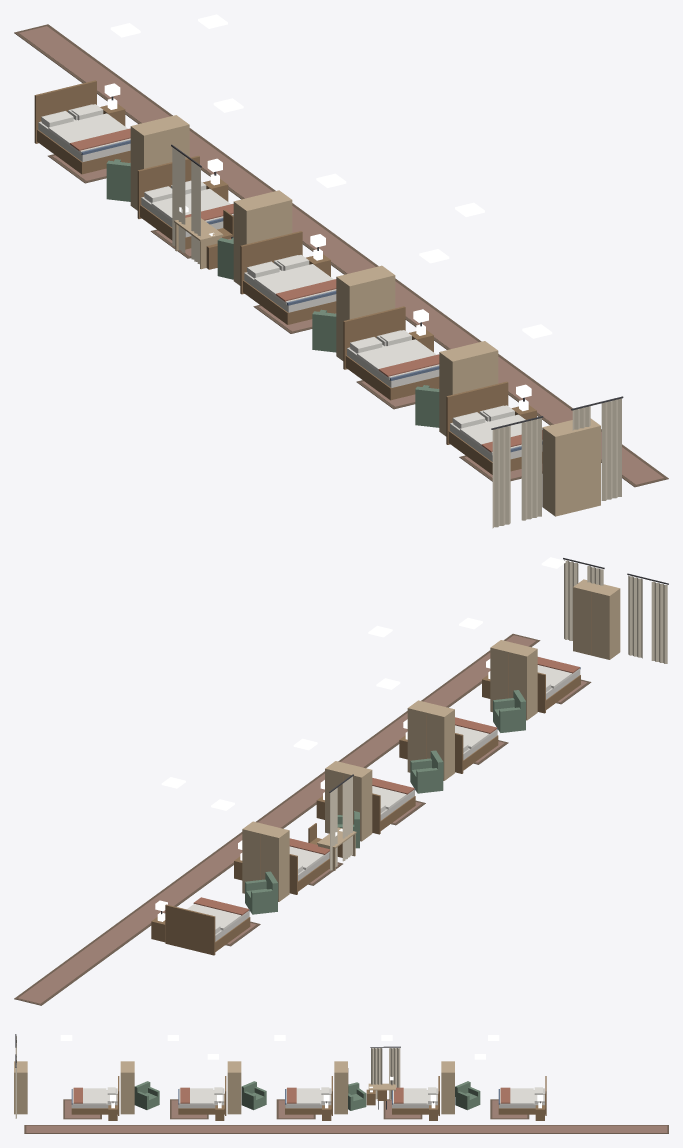
File: fine-s2.glb
3 views of the same model, one above another, from view 1: azimuth 30°, elevation 25°; view 2: azimuth 150°, elevation 25°; view 3: azimuth 270°, elevation 25° (orthographic). The views are drawn at different scales.
Visible parts, largest first — view 1: soft-s2, dresser.009, bed-frame.008, bed-frame.005, bed-frame.007, dresser.006, dresser.007, dresser.008, bed-frame.009, dresser.005, bed-frame.006, lounge-chair.007 (+3 smaller); view 2: soft-s2, dresser.009, dresser.007, dresser.008, dresser.005, bed-frame.005, dresser.006, lounge-chair.006, lounge-chair.004, lounge-chair.007, bed-frame.009, bed-frame.007 (+2 smaller); view 3: soft-s2, dresser.008, dresser.007, dresser.006, dresser.005, dresser.009, bed-frame.008, bed-frame.009, lounge-chair.007, lounge-chair.004, lounge-chair.006, bed-frame.005 (+4 smaller).
Part boxes in pixels (x1,y1,x2,y2): soft-s2: (14,24,668,528); dresser.009: (542,418,600,516); bed-frame.008: (343,306,439,400); bed-frame.005: (34,80,130,174); bed-frame.007: (240,231,336,324); dresser.006: (233,190,292,285); dresser.007: (336,265,395,360); dresser.008: (439,341,498,436); bed-frame.009: (446,381,542,474); dresser.005: (130,115,189,210); bed-frame.006: (137,155,233,249); lounge-chair.007: (415,385,439,427); soft-s2: (14,558,668,1005); dresser.009: (573,579,620,659); dresser.007: (407,700,454,780); dresser.008: (490,640,537,720); dresser.005: (242,821,289,901); bed-frame.005: (165,904,250,955); dresser.006: (325,761,372,841); lounge-chair.006: (410,750,443,793); lounge-chair.004: (245,871,278,914); lounge-chair.007: (493,690,525,732); bed-frame.009: (537,667,580,713); bed-frame.007: (372,788,415,834); soft-s2: (15,1034,668,1133); dresser.008: (120,1061,134,1114); dresser.007: (227,1061,241,1114); dresser.006: (334,1061,348,1114); dresser.005: (441,1061,454,1114); dresser.009: (14,1061,27,1114); bed-frame.008: (178,1076,226,1115); bed-frame.009: (71,1076,119,1115); lounge-chair.007: (134,1081,159,1109); lounge-chair.004: (455,1081,480,1110); lounge-chair.006: (241,1081,266,1110); bed-frame.005: (498,1076,546,1115).
Size of the model in its own units: 4.88 by 3.55 by 28.7.
